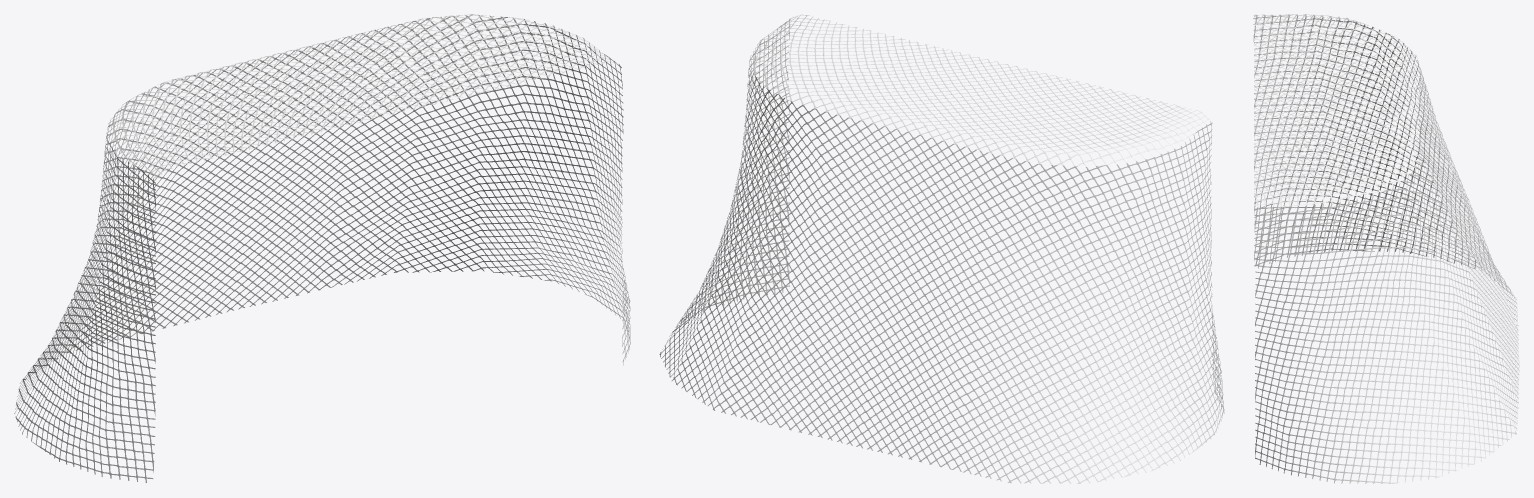
The model's file is Nets.FBX.
3 renders of one model, left to right at view 1: azimuth 30°, elevation 25°; view 2: azimuth 150°, elevation 25°; view 3: azimuth 270°, elevation 25°, orthographic. The views are drawn at different scales.
Visible parts, largest first — view 1: Net; view 2: Net; view 3: Net.
Boxes of the visible parts, x1,y1,x2,y2 form: Net: (14,14,630,482); Net: (659,14,1224,483); Net: (1253,14,1519,483).
Bounding box in the file's own units: 2.22 × 1.16 × 1.07.
